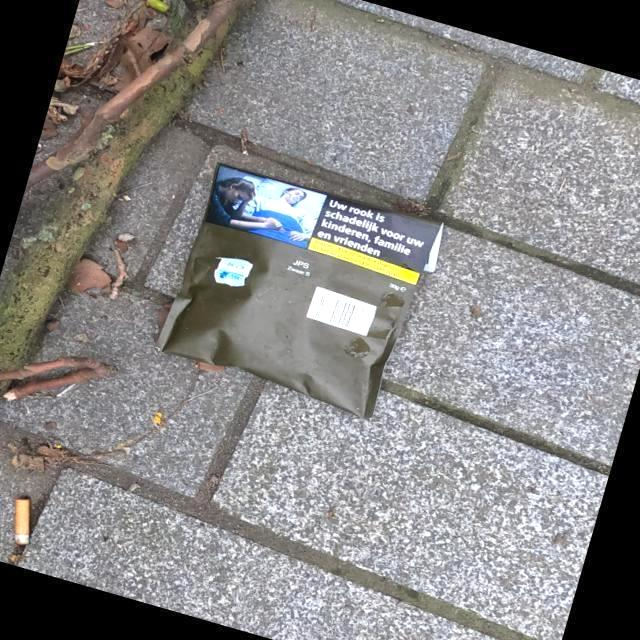Paper: (151, 160, 449, 422)
